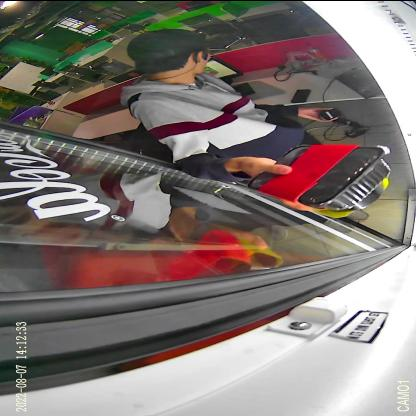red: (247, 143, 392, 209)
yellow: (310, 174, 390, 217)
